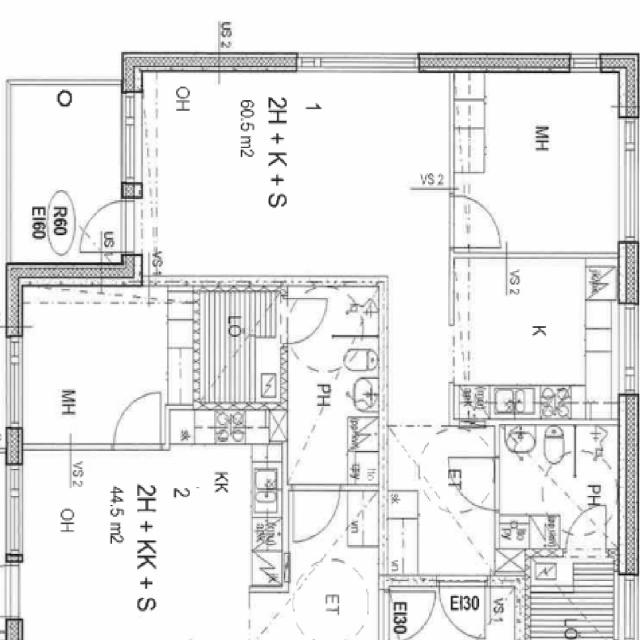door: (74, 200, 142, 252), (438, 572, 484, 637), (446, 457, 500, 510), (448, 196, 501, 248), (566, 505, 606, 555)
